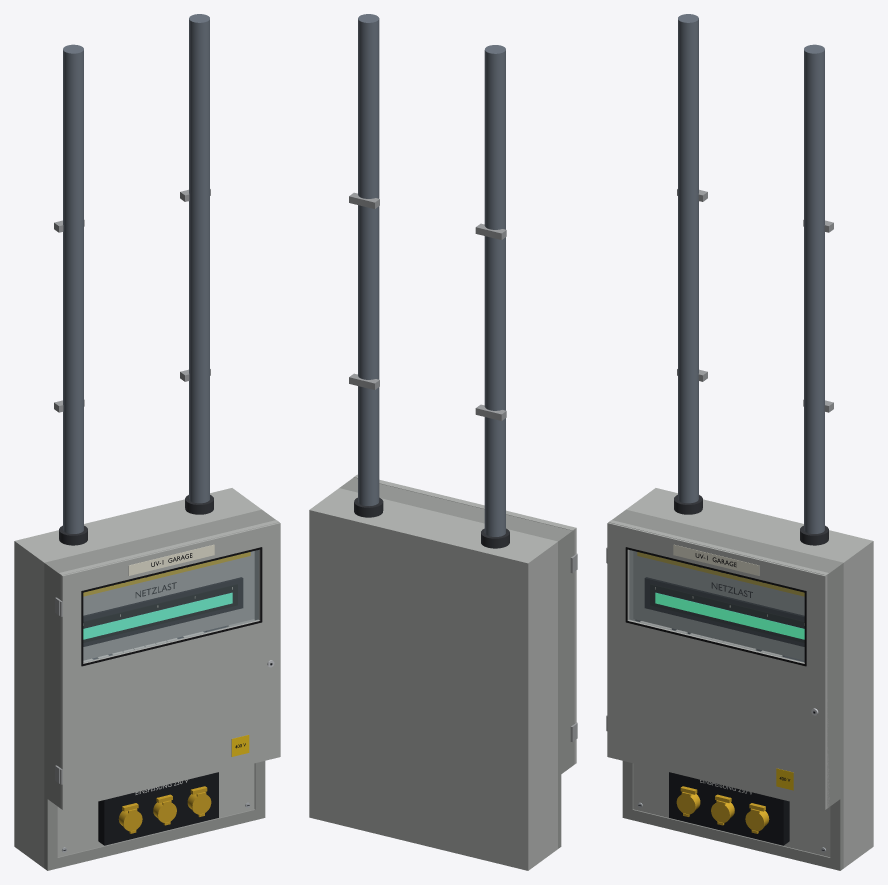
The model's file is breaker_box.glb.
3 views of the same model, side by side, from view 1: azimuth 30°, elevation 25°; view 2: azimuth 150°, elevation 25°; view 3: azimuth 330°, elevation 25° (orthographic).
Parts seen in each view (by area): view 1: breaker_box_Housing, breaker_box_Door, breaker_box_LoadBar; view 2: breaker_box_Housing, breaker_box_Door; view 3: breaker_box_Housing, breaker_box_Door, breaker_box_LoadBar.
Boxes of the visible parts, left/top/right/bottom form: breaker_box_Housing: left=14, top=14, right=275, bottom=870; breaker_box_Door: left=59, top=520, right=280, bottom=809; breaker_box_LoadBar: left=83, top=593, right=232, bottom=639; breaker_box_Housing: left=309, top=14, right=576, bottom=870; breaker_box_Door: left=354, top=474, right=577, bottom=763; breaker_box_Housing: left=612, top=14, right=873, bottom=870; breaker_box_Door: left=606, top=520, right=829, bottom=809; breaker_box_LoadBar: left=655, top=593, right=804, bottom=639.
Bounding box in the file's own units: 0.766 × 2.65 × 0.2985.
